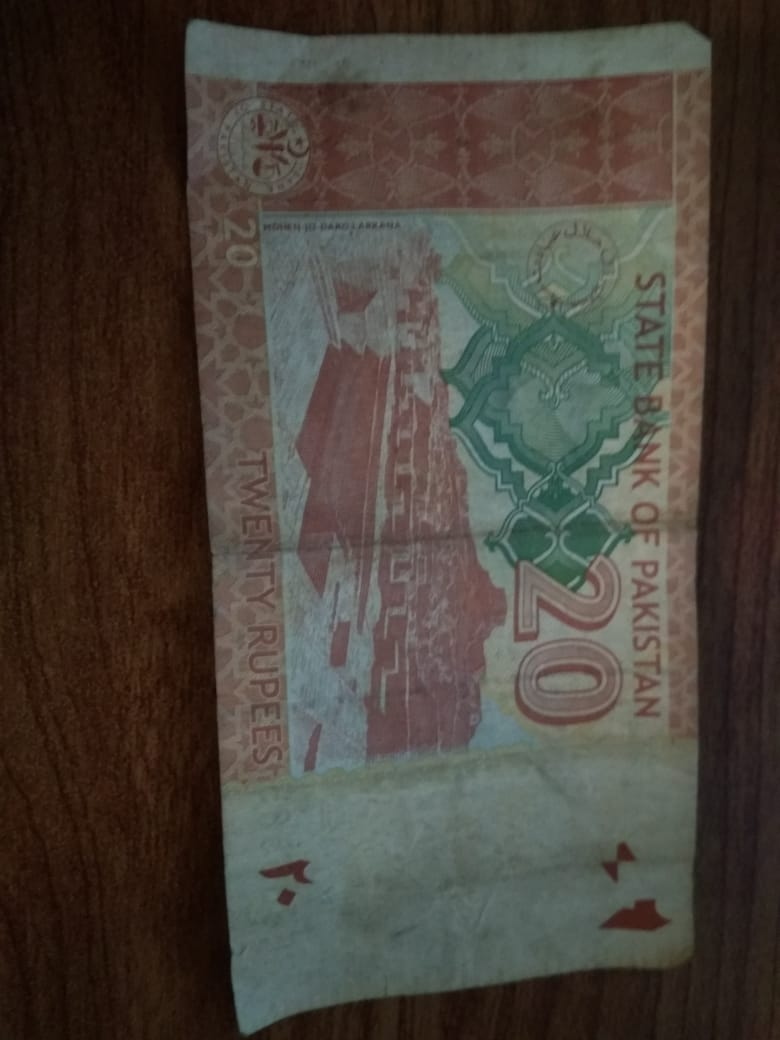20 rupee: (153, 13, 753, 1040)
